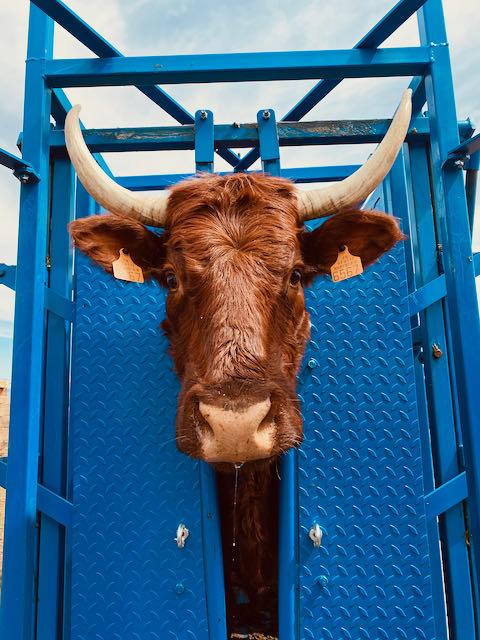muzzles: (168, 394, 305, 467)
